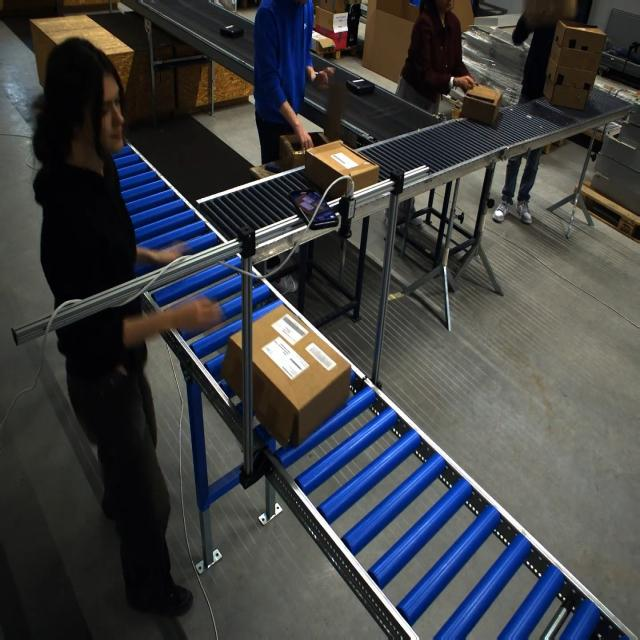box: (223, 301, 345, 444), (541, 19, 605, 110), (307, 140, 374, 198), (297, 83, 347, 149), (460, 83, 503, 126)
product: (345, 78, 373, 96), (219, 24, 244, 37)
